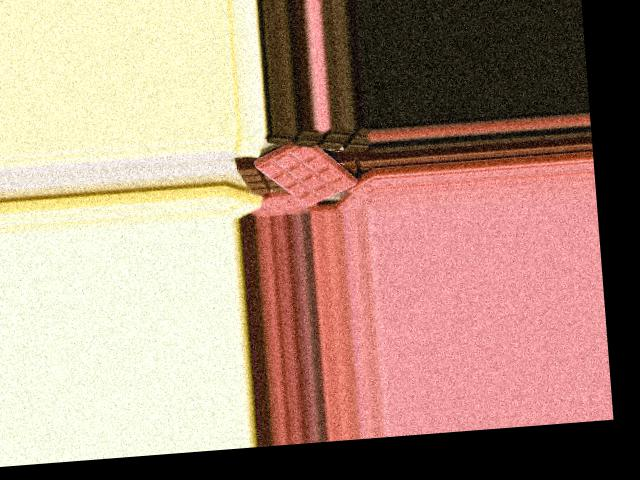chocolate: (253, 125, 359, 212)
